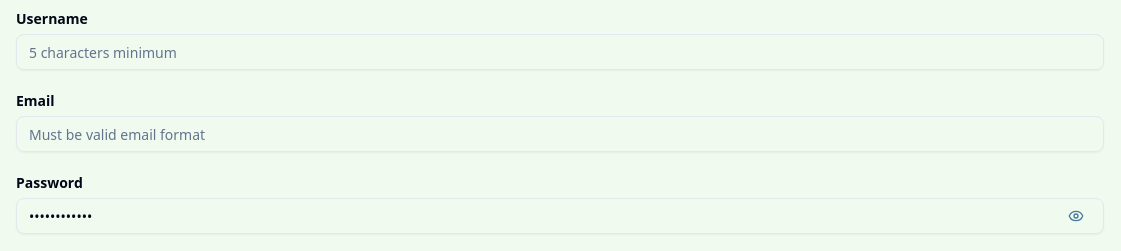
UserCreationFormFields › password visibility toggle › should toggle password visibility when the eye icon button is clicked
The width and height of the screenshot is (1121, 251).
Click the button: (1076, 216) left=1056, top=204, right=1096, bottom=228
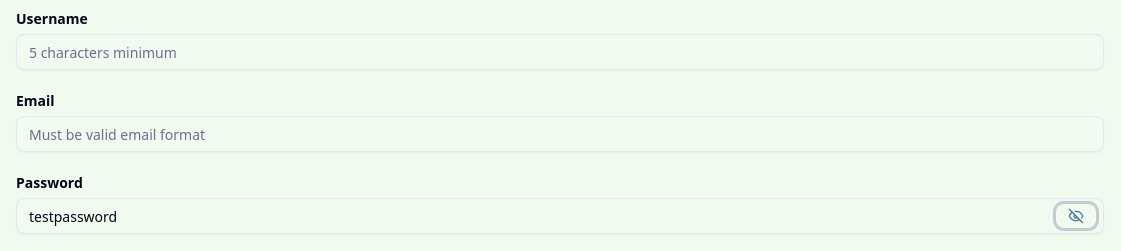
Now the field labelled "Password" shows its text, box left=16, top=198, right=1104, bottom=234
Click the button: (1076, 216) left=1056, top=204, right=1096, bottom=228
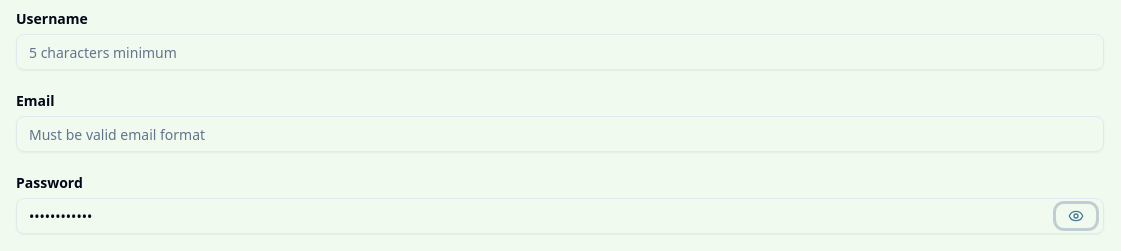
Now the password field labelled "Password" hides its text, box left=16, top=198, right=1104, bottom=234
